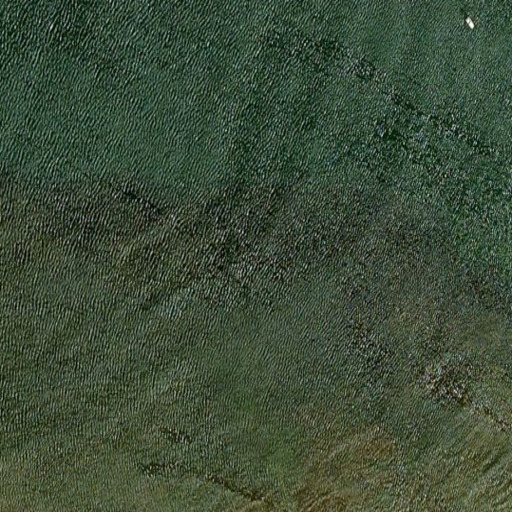ship: (461, 13, 477, 32)
